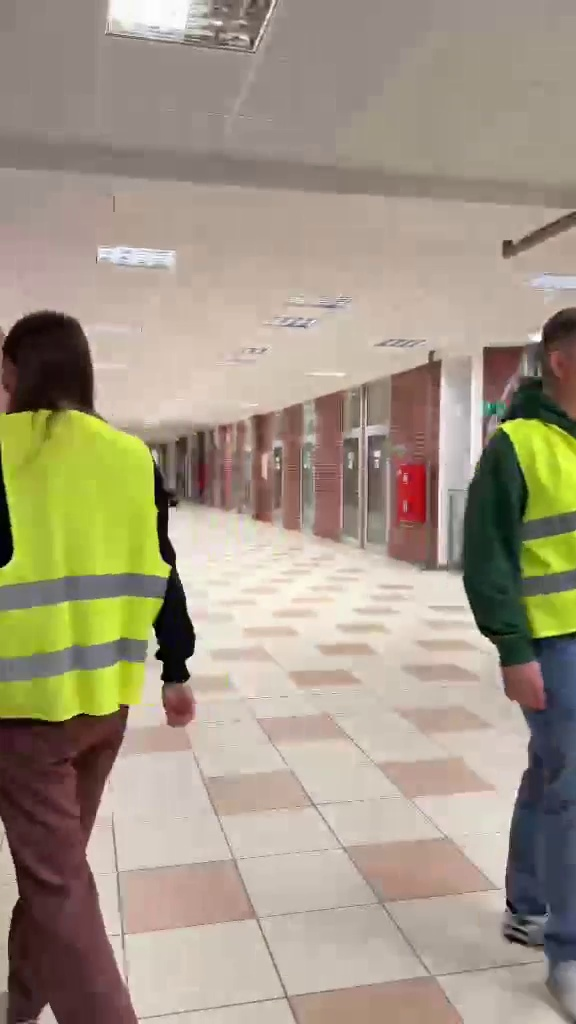vest: (0, 302, 188, 996), (468, 295, 576, 971)
